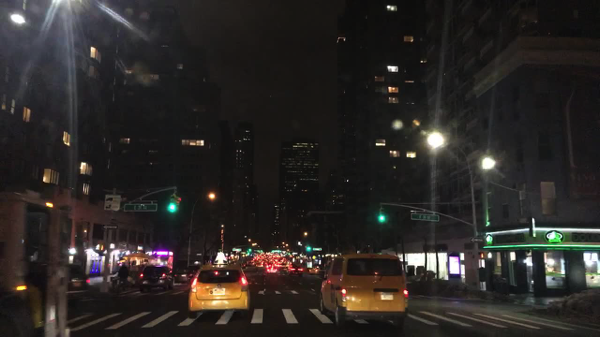car: (318, 253, 408, 328), (188, 252, 251, 320), (31, 263, 91, 302), (139, 264, 174, 292), (174, 265, 200, 286), (255, 253, 279, 274), (286, 264, 303, 277), (308, 266, 321, 276), (323, 264, 329, 280), (236, 263, 247, 270), (247, 260, 255, 266), (280, 263, 286, 269)
person: (118, 264, 128, 294)
traffic light: (176, 197, 181, 213), (379, 210, 385, 223), (172, 196, 176, 212), (306, 244, 311, 252), (247, 247, 251, 253)
traffic sign: (105, 195, 120, 211), (410, 213, 438, 221), (124, 204, 155, 211), (101, 226, 118, 230), (470, 238, 482, 242), (312, 248, 322, 250), (231, 249, 241, 251), (272, 250, 281, 252)
